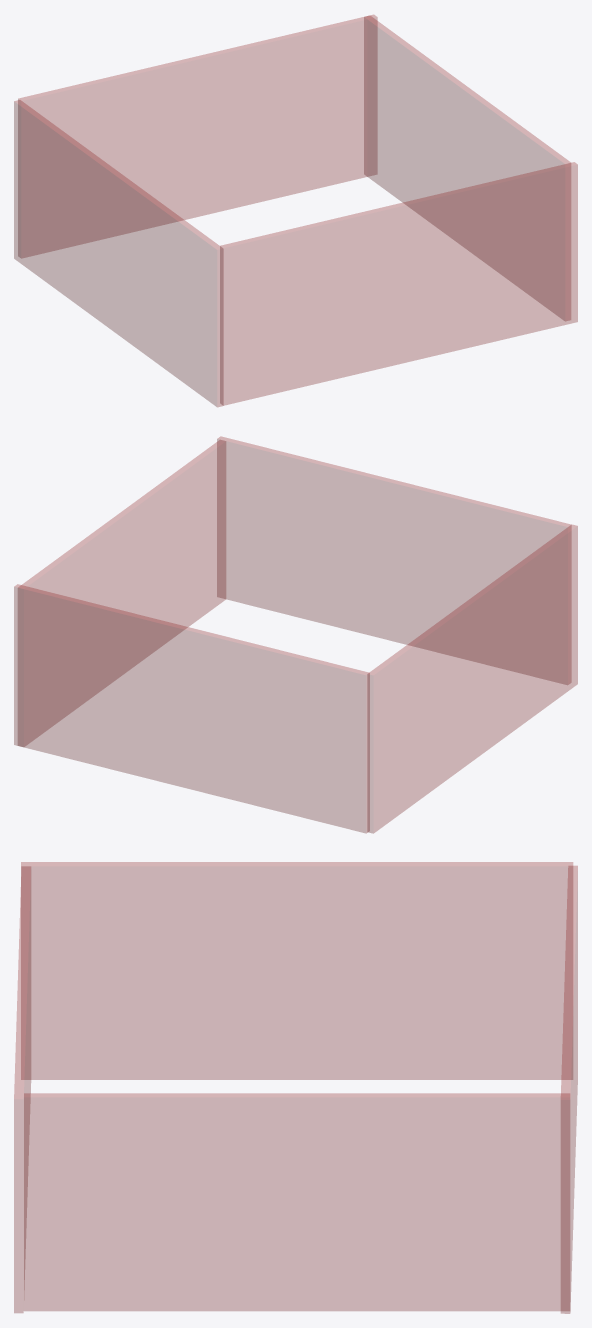
The model's file is red-boundry.glb.
The picture shows the model from 3 angles, top to bottom: view 1: azimuth 30°, elevation 25°; view 2: azimuth 150°, elevation 25°; view 3: azimuth 270°, elevation 25°; orthographic projection. The views are drawn at different scales.
Visible parts, largest first — view 1: Box (×4); view 2: Box (×4); view 3: Box (×4).
Boxes of the visible parts, x1=… form: Box (×4): x1=14, y1=15, x2=577, y2=406; Box (×4): x1=14, y1=436, x2=577, y2=833; Box (×4): x1=14, y1=862, x2=577, y2=1313.
Size of the model in its own units: 21.21 by 8.89 by 21.25.
